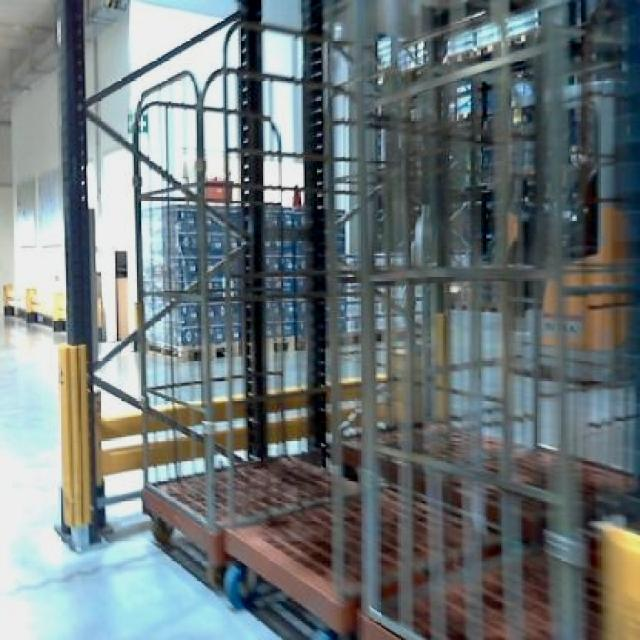pallets: (89, 0, 637, 637), (102, 397, 138, 445)
